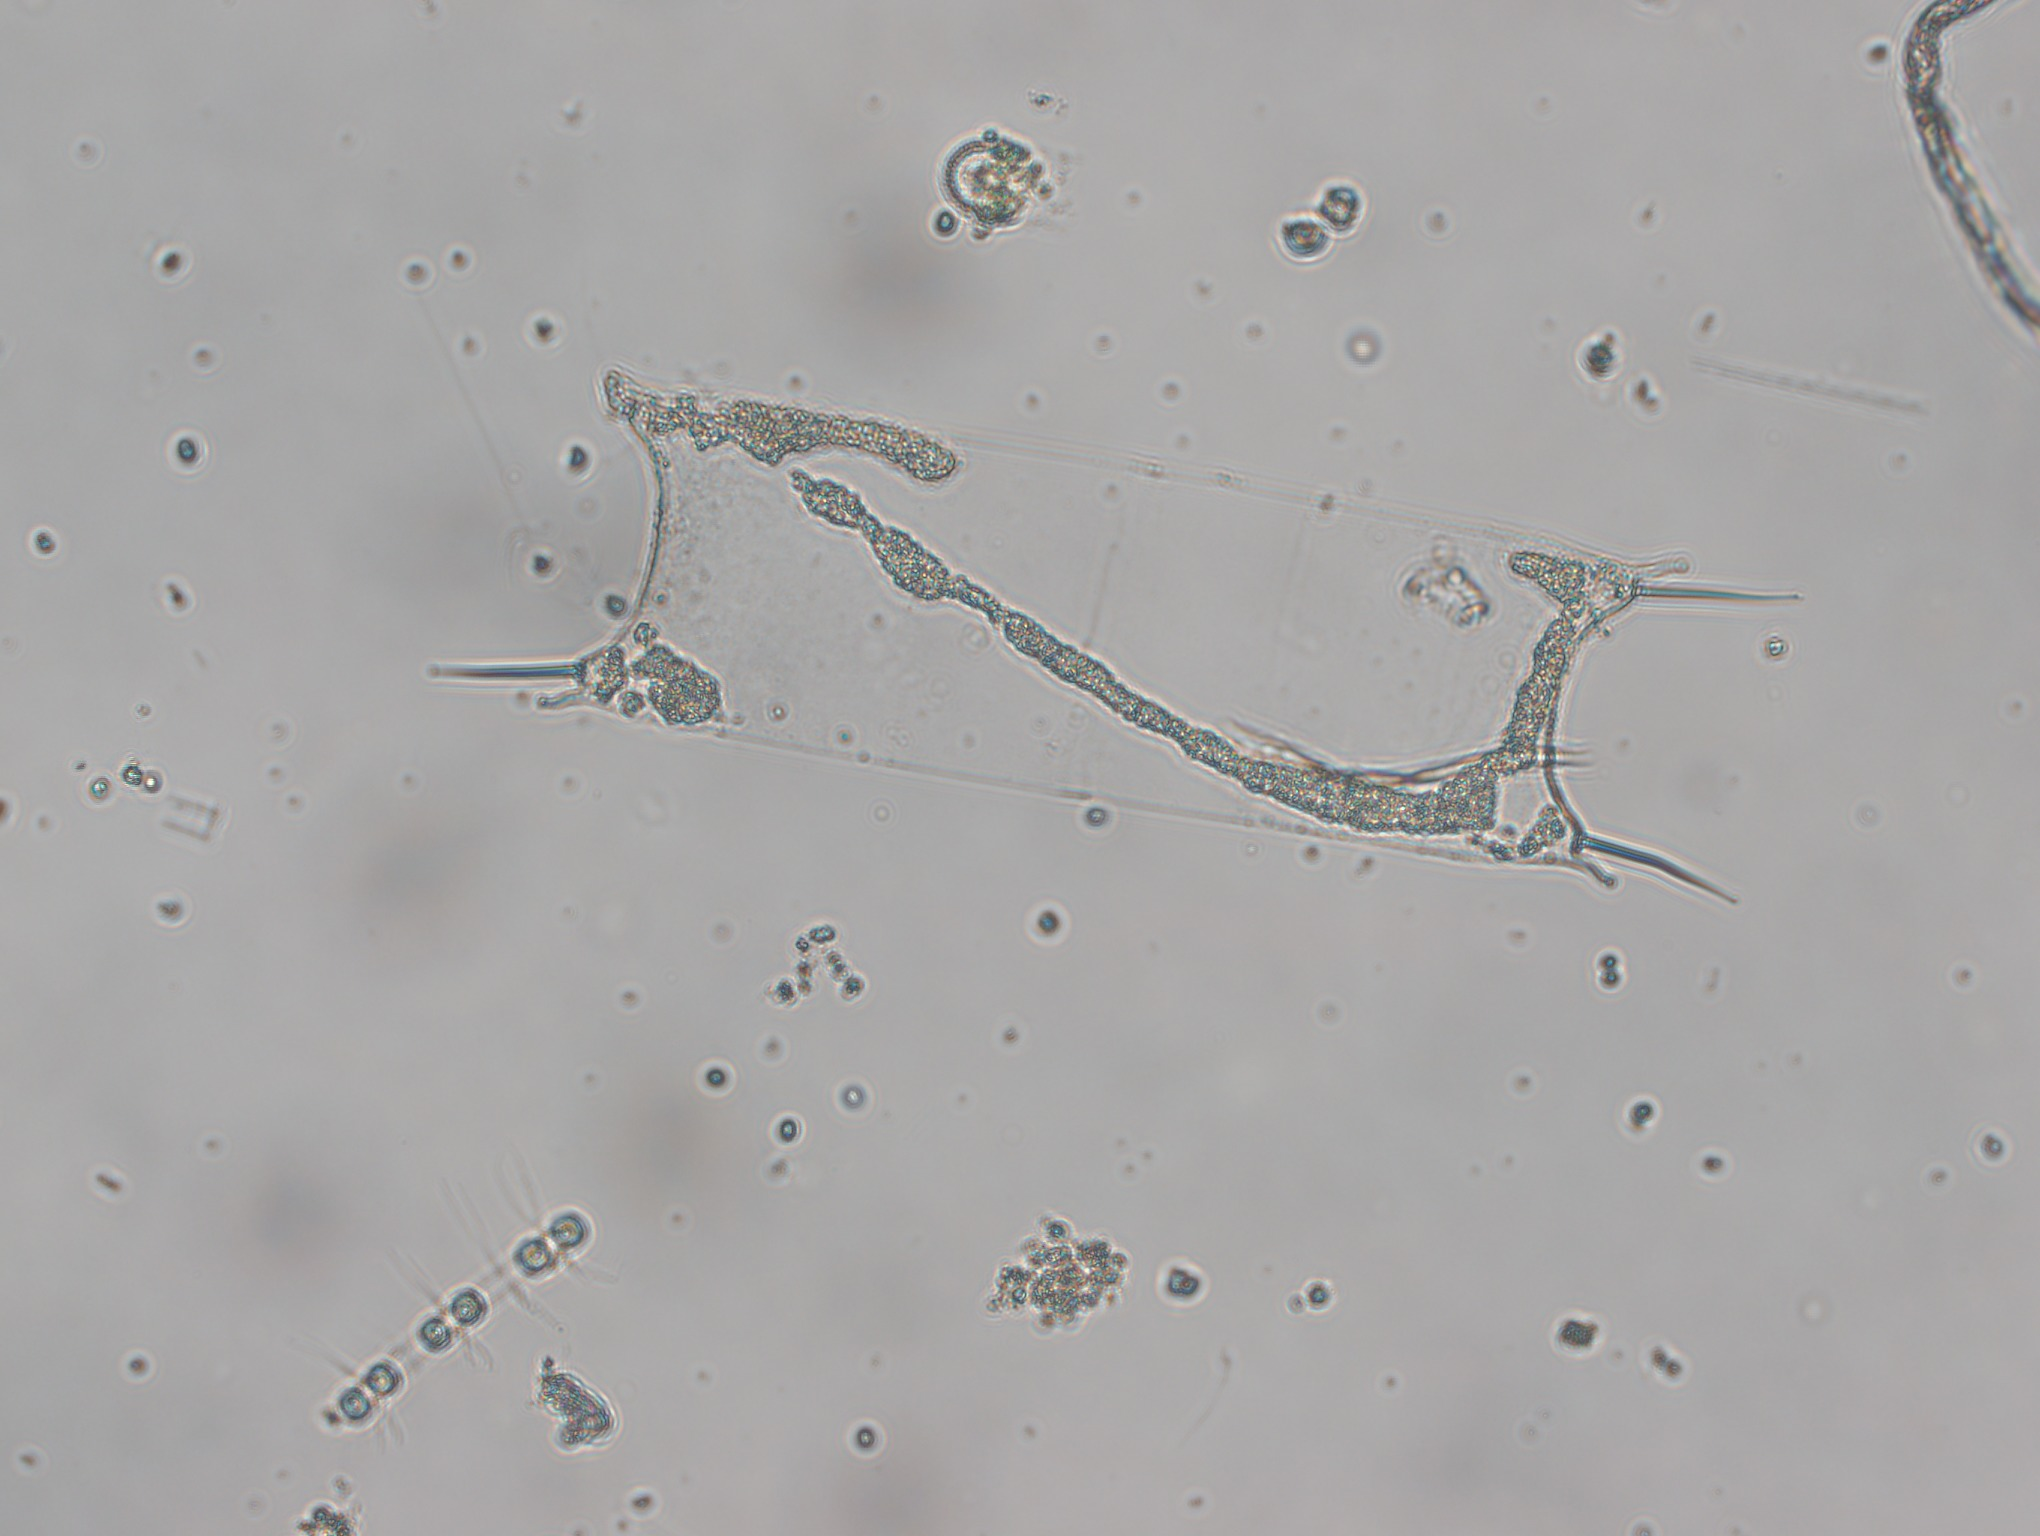biddulphia: (427, 357, 1800, 908)
chaetoceros: (298, 1162, 624, 1450)
